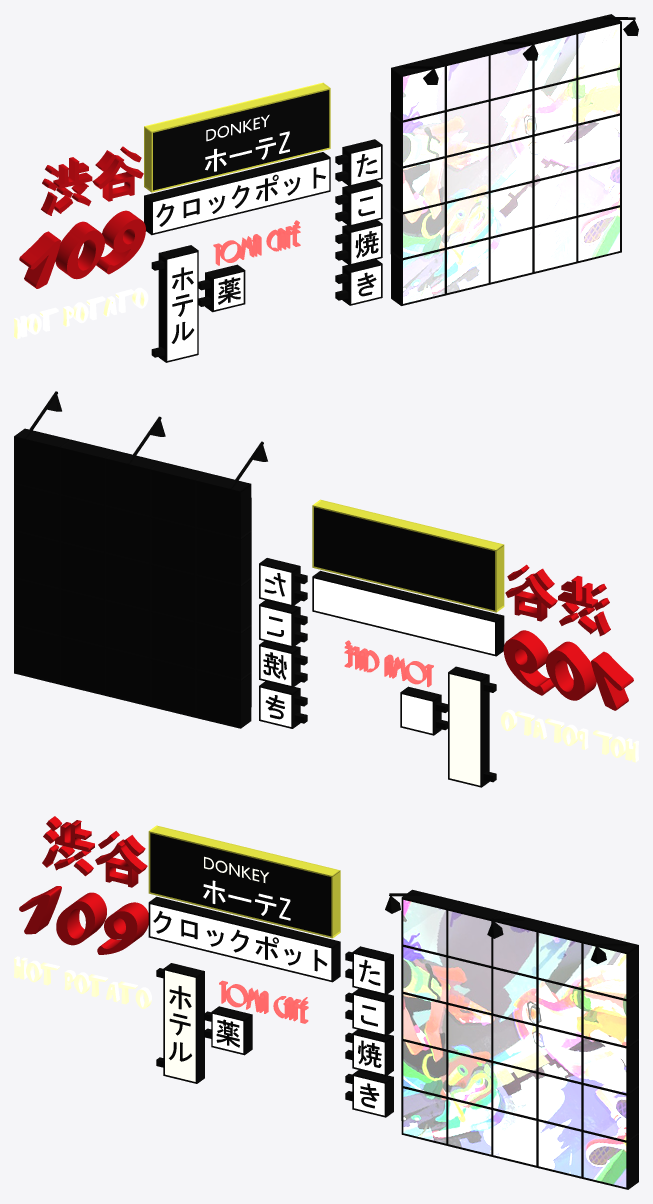
The model's file is billboards-2.glb.
3 renders of one model, top to bottom at view 1: azimuth 30°, elevation 25°; view 2: azimuth 150°, elevation 25°; view 3: azimuth 330°, elevation 25°, orthographic. The views are drawn at different scales.
Parts seen in each view (by area): view 1: billboard, cube-letter.006, billboard-wireframe, cube-letter.005, text-shibuya.001, cube-letter.004, text-shibuya, text-shibuya.003, cube-letter.001, cube-letter.002, cube-letter, cube-letter.007 (+5 smaller); view 2: billboard, cube-letter.006, billboard-wireframe, cube-letter.005, text-shibuya.001, cube-letter.004, text-shibuya, text-shibuya.003, cube-letter.007, cube-letter.001, cube-letter.002, cube-letter (+2 smaller); view 3: billboard, cube-letter.006, billboard-wireframe, cube-letter.005, text-shibuya.001, cube-letter.004, text-shibuya, text-shibuya.003, cube-letter.001, cube-letter.002, cube-letter, cube-letter.007 (+5 smaller).
Part boxes in pixels (left/top/right/bottom): billboard: left=391, top=15, right=619, bottom=303; cube-letter.006: left=144, top=82, right=330, bottom=192; billboard-wireframe: left=390, top=14, right=621, bottom=305; cube-letter.005: left=144, top=152, right=330, bottom=235; text-shibuya.001: left=19, top=210, right=145, bottom=288; cube-letter.004: left=151, top=245, right=198, bottom=362; text-shibuya: left=41, top=146, right=143, bottom=215; text-shibuya.003: left=14, top=287, right=148, bottom=339; cube-letter.001: left=335, top=139, right=382, bottom=186; cube-letter.002: left=335, top=180, right=382, bottom=226; cube-letter: left=335, top=259, right=382, bottom=305; cube-letter.007: left=198, top=264, right=245, bottom=312; billboard: left=16, top=429, right=250, bottom=726; cube-letter.006: left=312, top=499, right=504, bottom=612; billboard-wireframe: left=14, top=428, right=251, bottom=728; cube-letter.005: left=312, top=570, right=504, bottom=656; text-shibuya.001: left=503, top=630, right=633, bottom=710; cube-letter.004: left=448, top=666, right=496, bottom=787; text-shibuya: left=505, top=564, right=610, bottom=636; text-shibuya.003: left=501, top=709, right=638, bottom=762; cube-letter.007: left=400, top=686, right=447, bottom=735; cube-letter.001: left=259, top=558, right=307, bottom=606; cube-letter.002: left=259, top=600, right=307, bottom=647; cube-letter: left=259, top=681, right=307, bottom=728; billboard: left=403, top=891, right=637, bottom=1187; cube-letter.006: left=148, top=825, right=340, bottom=938; billboard-wireframe: left=401, top=889, right=638, bottom=1189; cube-letter.005: left=148, top=896, right=340, bottom=982; text-shibuya.001: left=19, top=886, right=148, bottom=954; cube-letter.004: left=156, top=963, right=204, bottom=1083; text-shibuya: left=42, top=816, right=147, bottom=887; text-shibuya.003: left=14, top=956, right=151, bottom=1008; cube-letter.001: left=345, top=946, right=393, bottom=995; cube-letter.002: left=345, top=988, right=393, bottom=1036; cube-letter: left=345, top=1070, right=393, bottom=1117; cube-letter.007: left=204, top=1006, right=252, bottom=1055.
Bounding box in the file's own units: 3803 × 1536 × 368.
